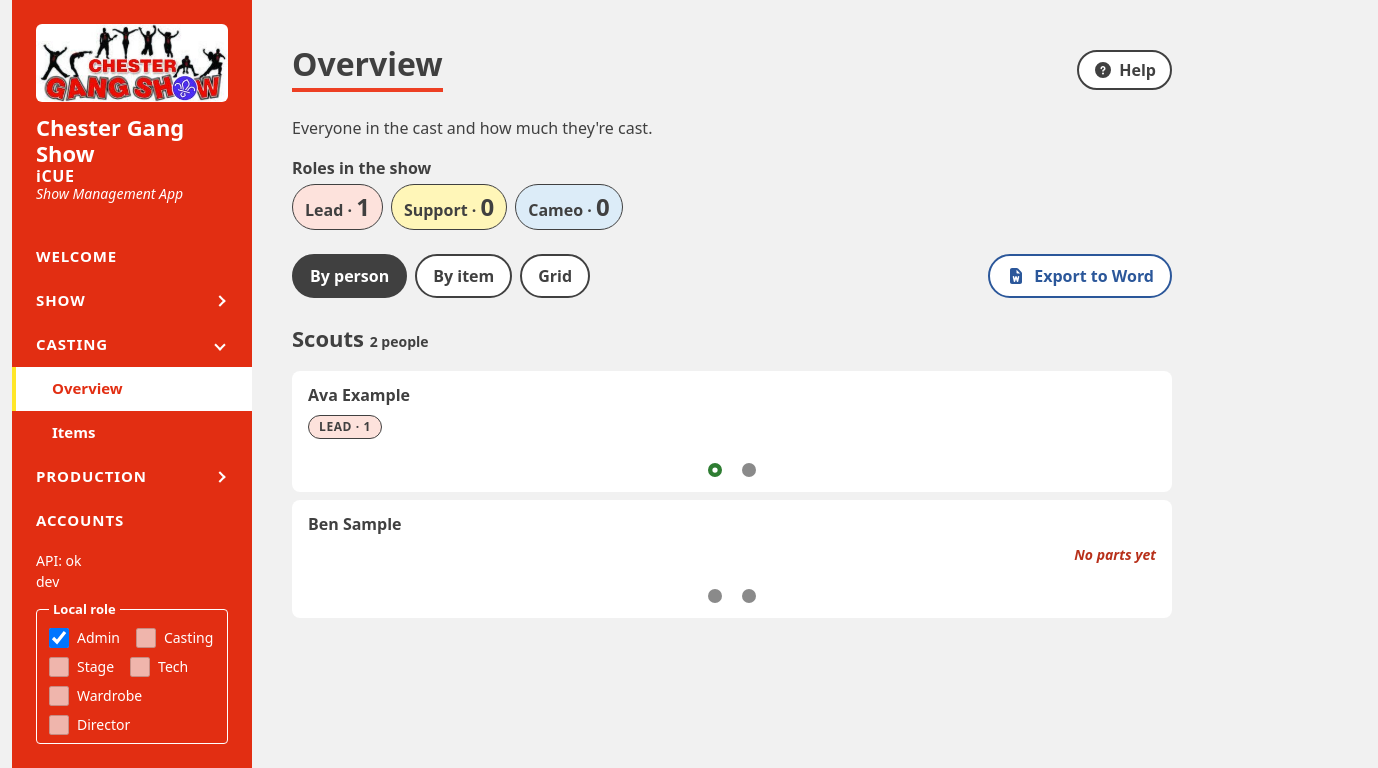
it: Export to Word › shows it's busy and starts no second export while one is being made
Click the button "By item" at (464, 276), box [415,254,512,298]
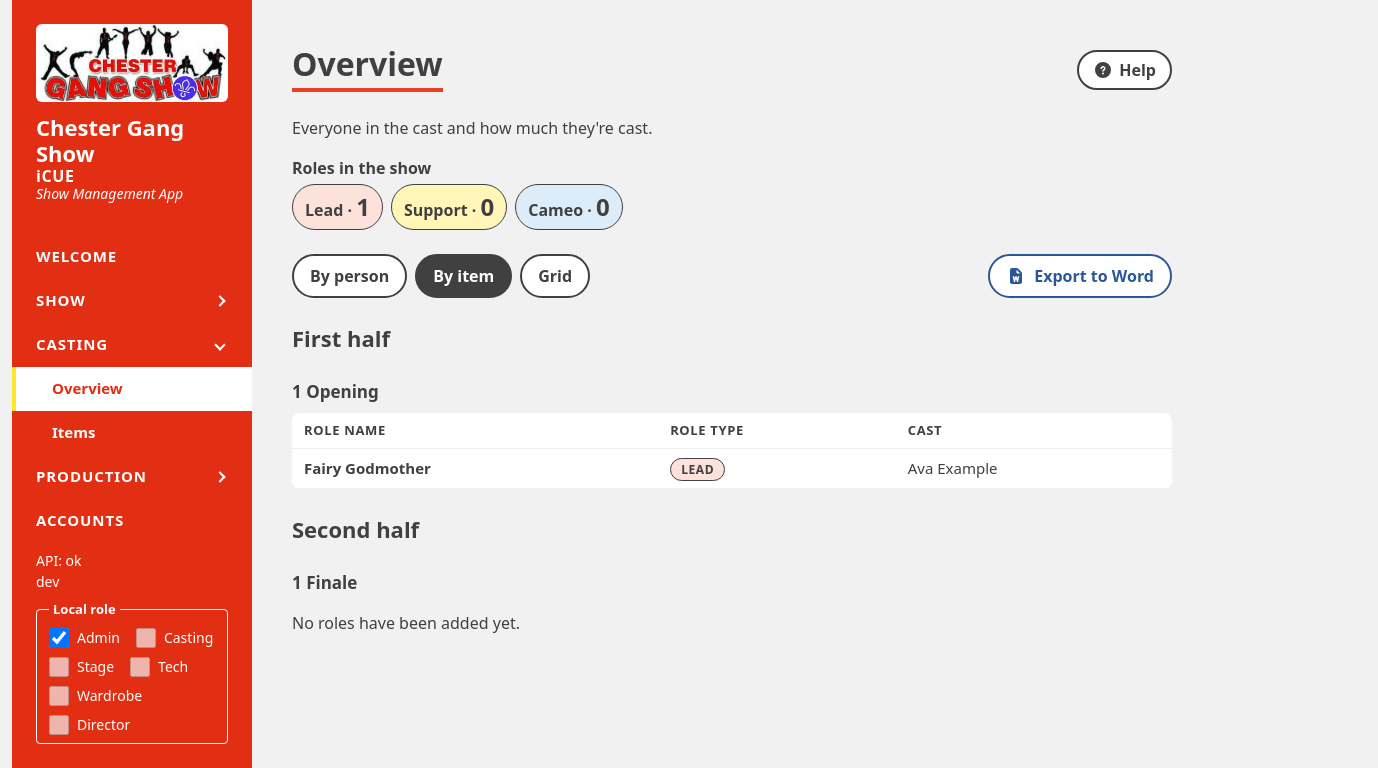
Click the button "Export to Word" at (1080, 276), box [988,254,1172,298]
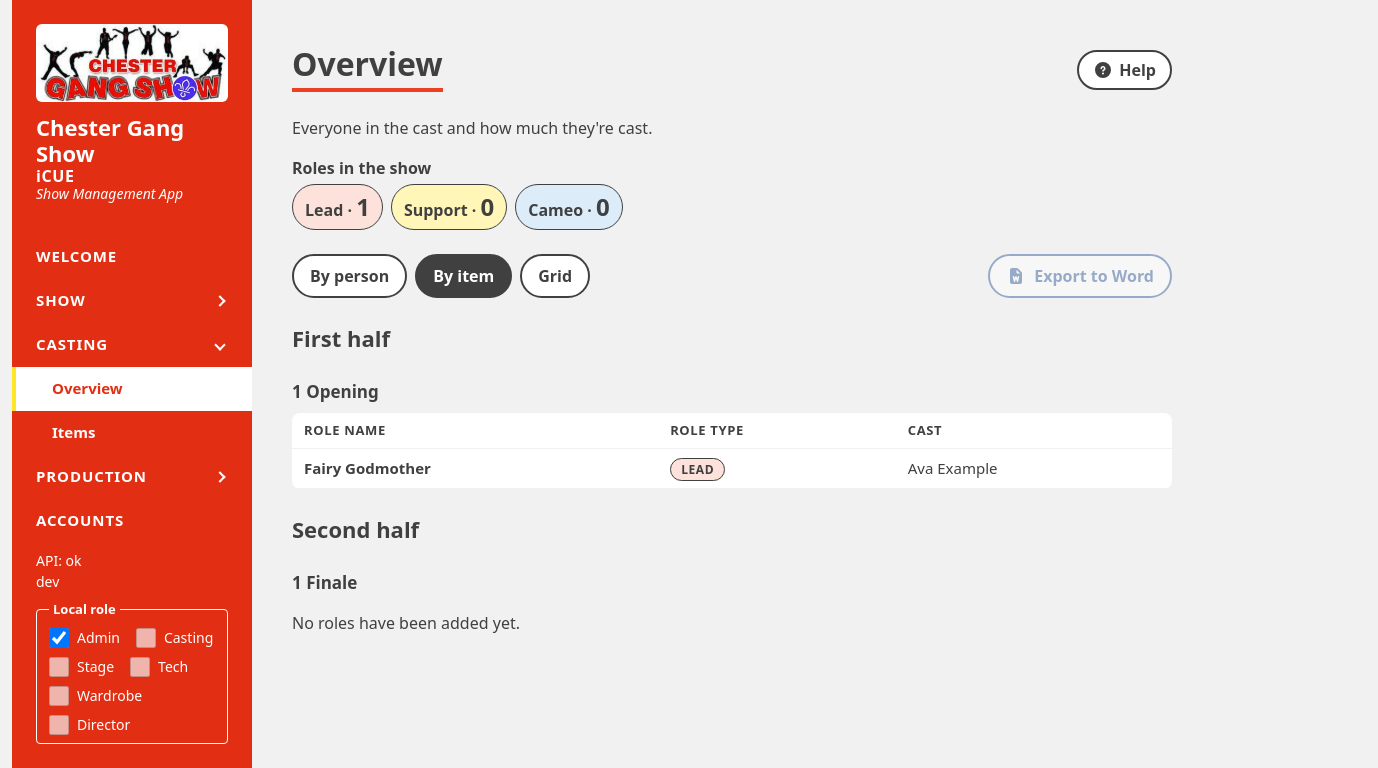
Expected: the button with class "word-export-button" is disabled
Click the button with class "word-export-button" at (1080, 276), box [988,254,1172,298]
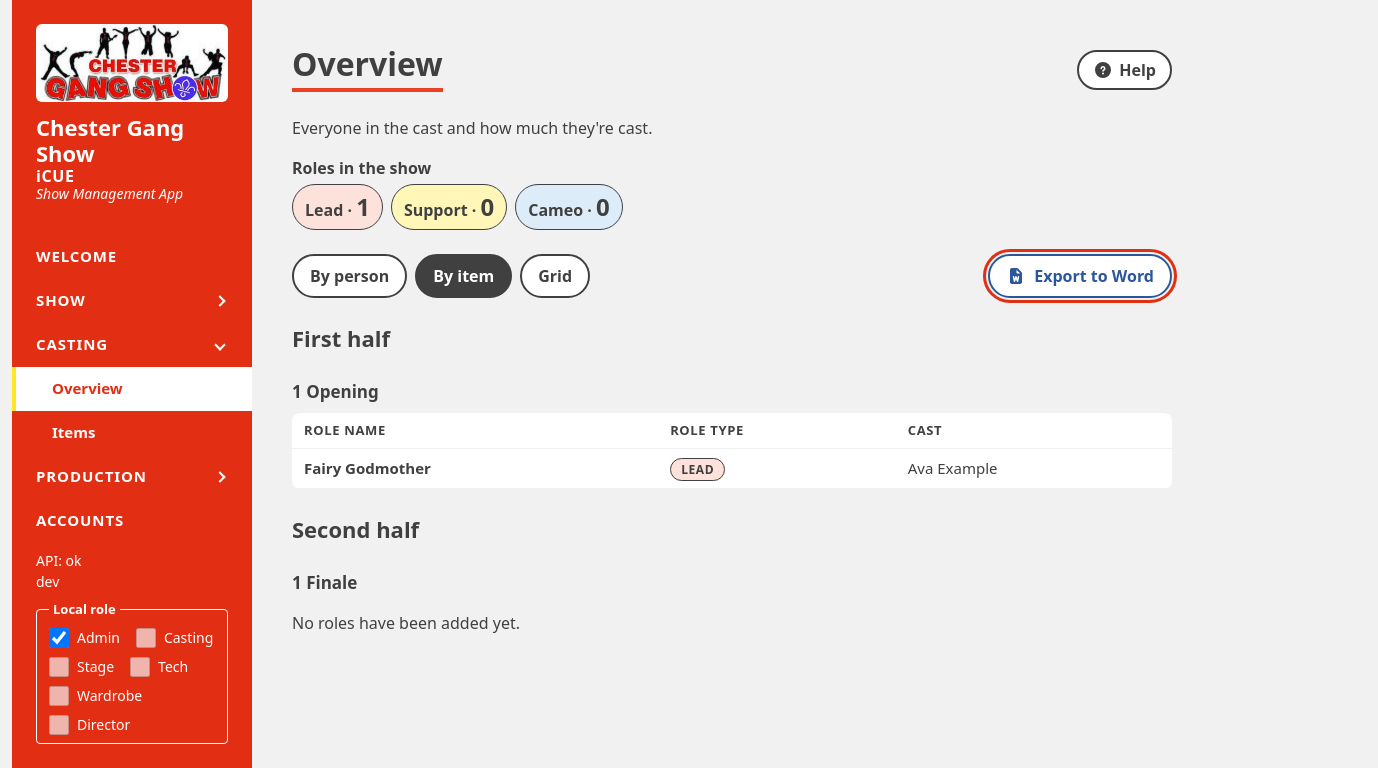
Expected: the button with class "word-export-button" is enabled, [988,254,1172,298]
